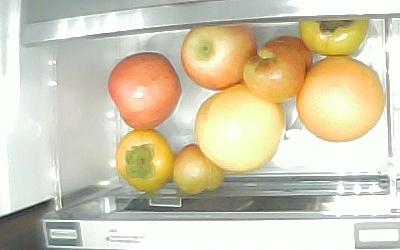apple: (108, 51, 181, 130), (180, 24, 256, 91)
grapefruit: (193, 85, 284, 172), (296, 56, 382, 142)
persimmon: (115, 130, 173, 191), (299, 17, 369, 56)
prune: (243, 40, 305, 102), (172, 144, 223, 195)
